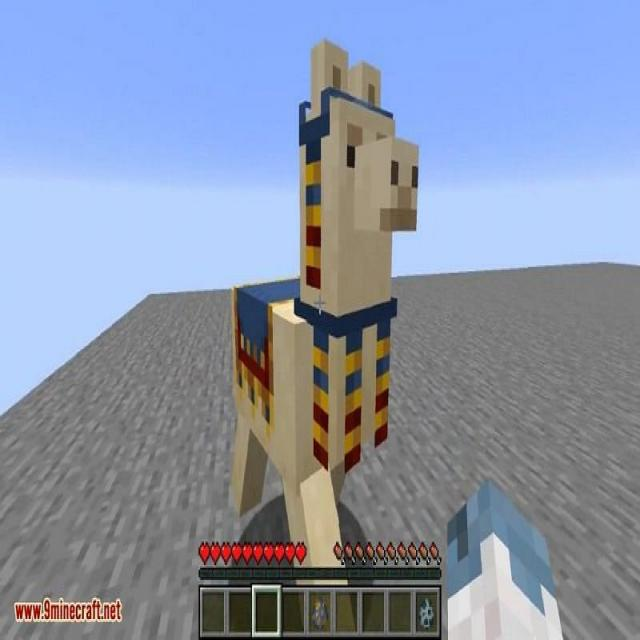Trader Lama: (230, 37, 420, 631)
